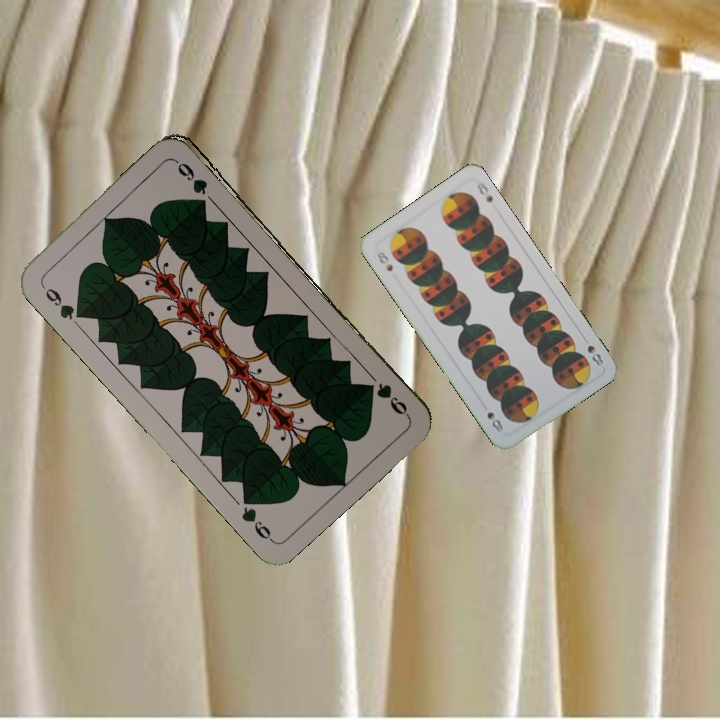G9: (36, 279, 87, 323), (372, 378, 412, 420)
S8: (583, 341, 608, 368), (372, 247, 395, 274)
